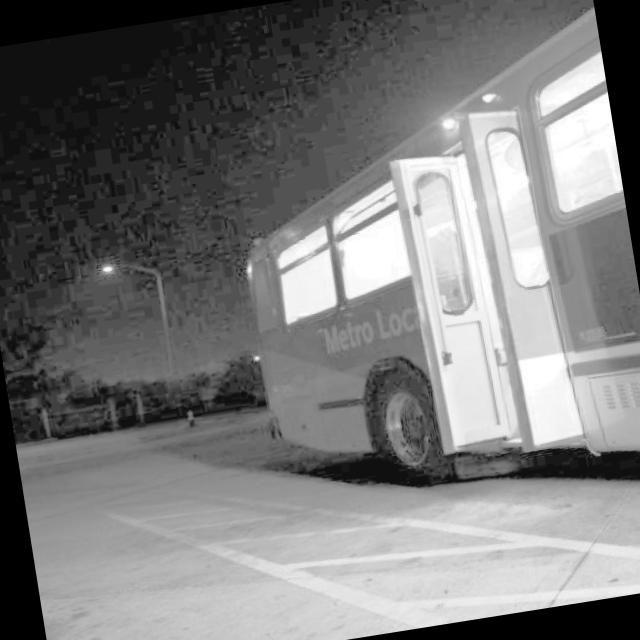Bus: (191, 65, 640, 514)
